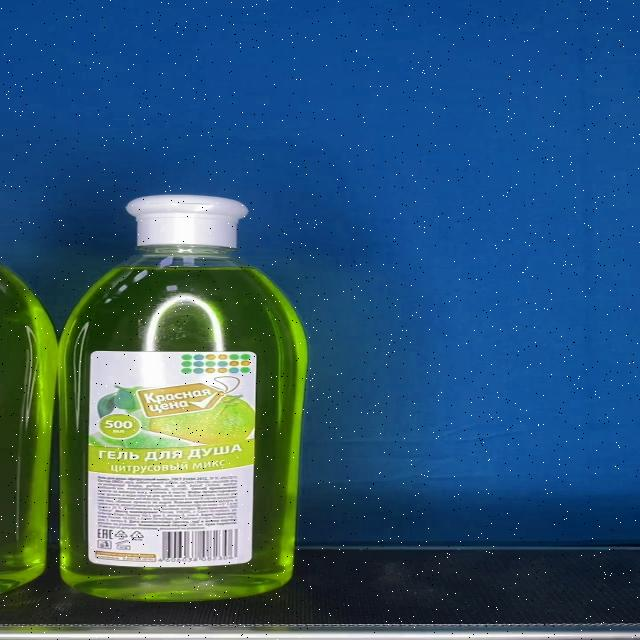Bottle: (58, 194, 310, 602)
Cap: (125, 194, 248, 247)
